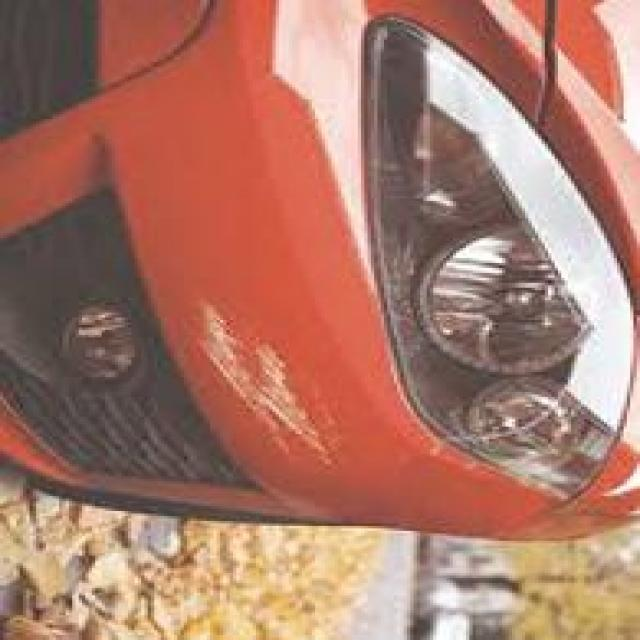scratch: (175, 281, 372, 514)
